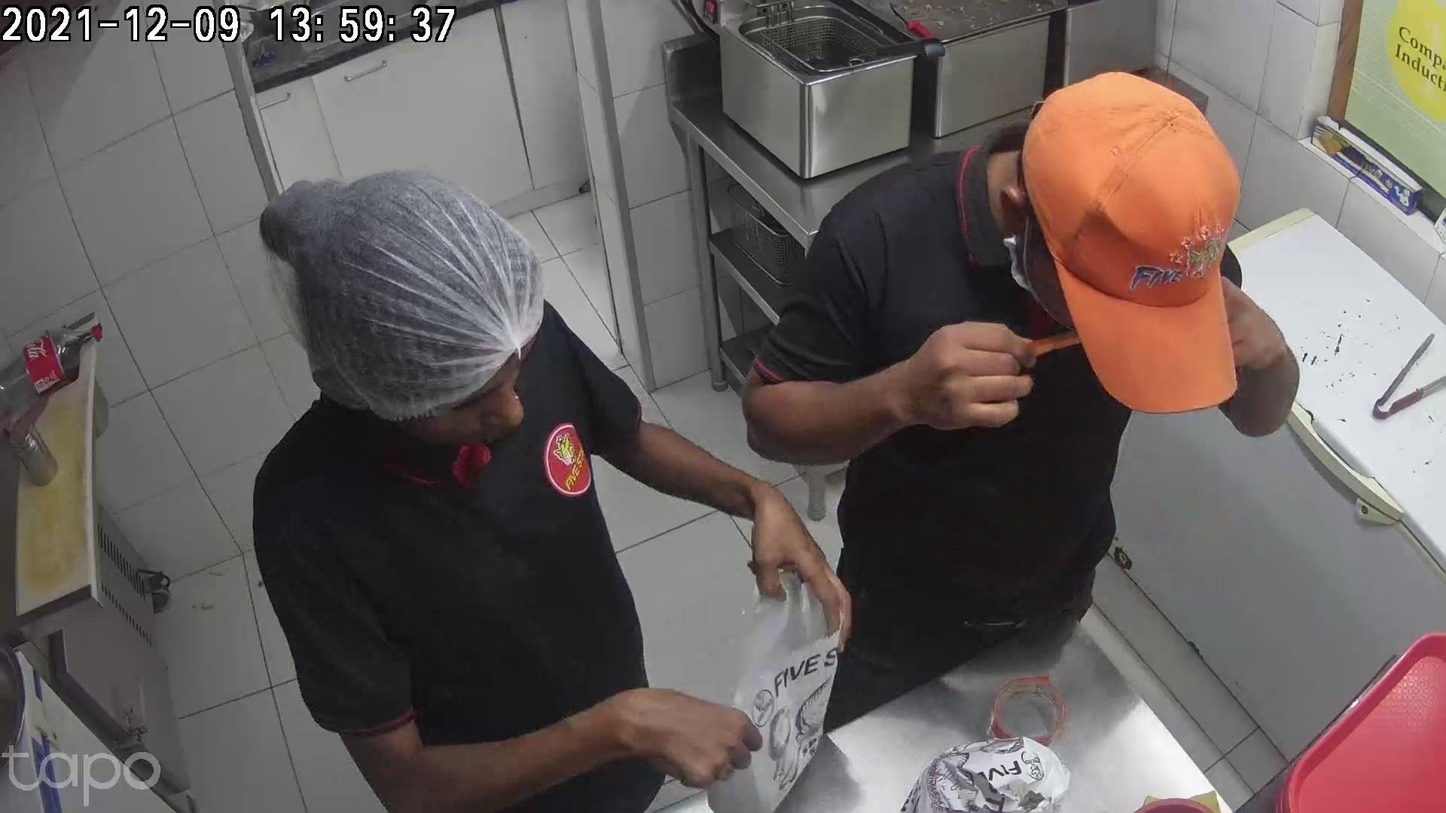no_gloves: (874, 333, 1030, 427)
